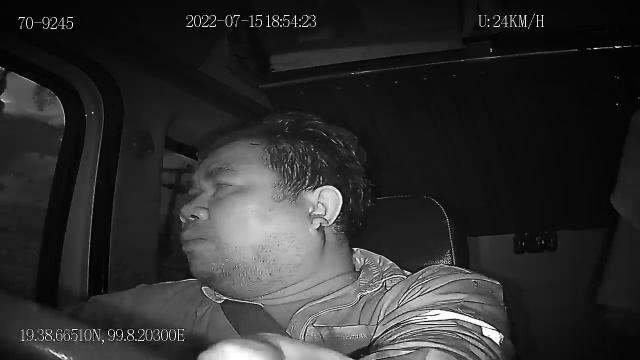Seatbelt: (220, 297, 294, 339)
